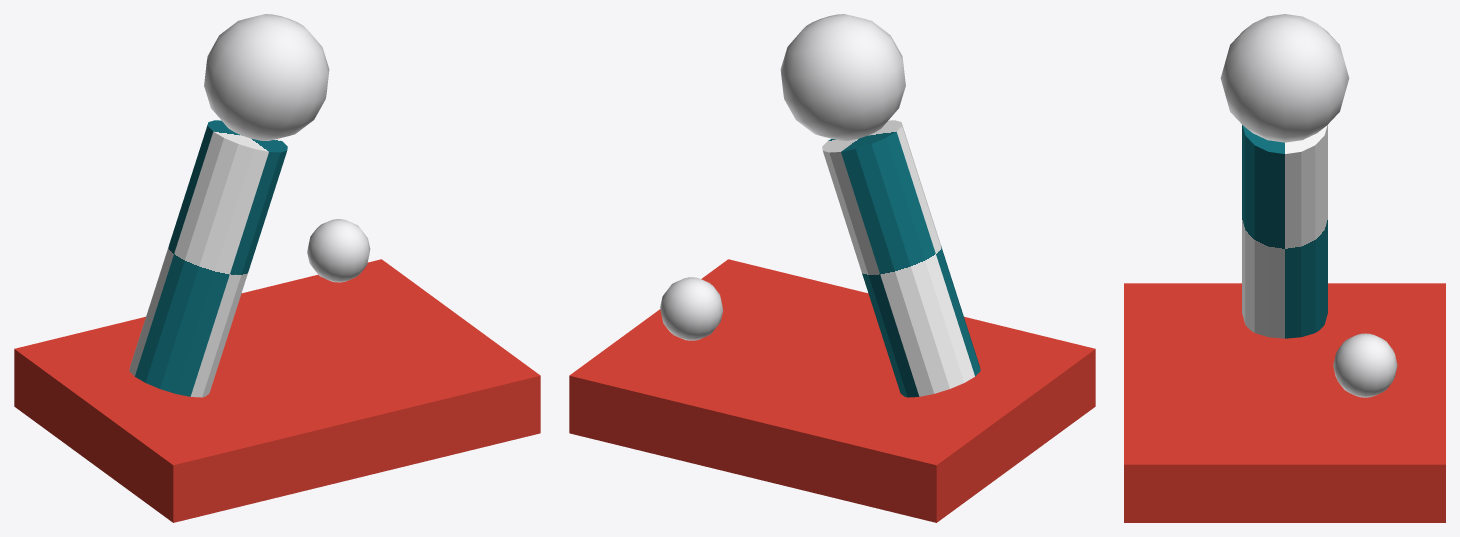
The model's file is primitives_ascii.fbx.
The picture shows the model from 3 angles, left to right: view 1: azimuth 30°, elevation 25°; view 2: azimuth 150°, elevation 25°; view 3: azimuth 270°, elevation 25°; orthographic projection.
Visible parts, largest first — view 1: Plinth, Column, Ball, Ball copy; view 2: Plinth, Column, Ball, Ball copy; view 3: Plinth, Column, Ball, Ball copy.
Boxes of the visible parts, x1,y1,x2,y2 form: Plinth: [14, 259, 540, 522]; Column: [129, 120, 287, 397]; Ball: [204, 14, 329, 140]; Ball copy: [307, 219, 370, 282]; Plinth: [569, 259, 1095, 522]; Column: [822, 120, 980, 397]; Ball: [780, 14, 905, 140]; Ball copy: [660, 277, 723, 340]; Plinth: [1124, 283, 1445, 522]; Column: [1242, 125, 1327, 338]; Ball: [1220, 14, 1349, 142]; Ball copy: [1333, 333, 1397, 397].
Size of the model in its own units: 8 by 6 by 8.38.
Materials: 3 (1 with a texture image).
